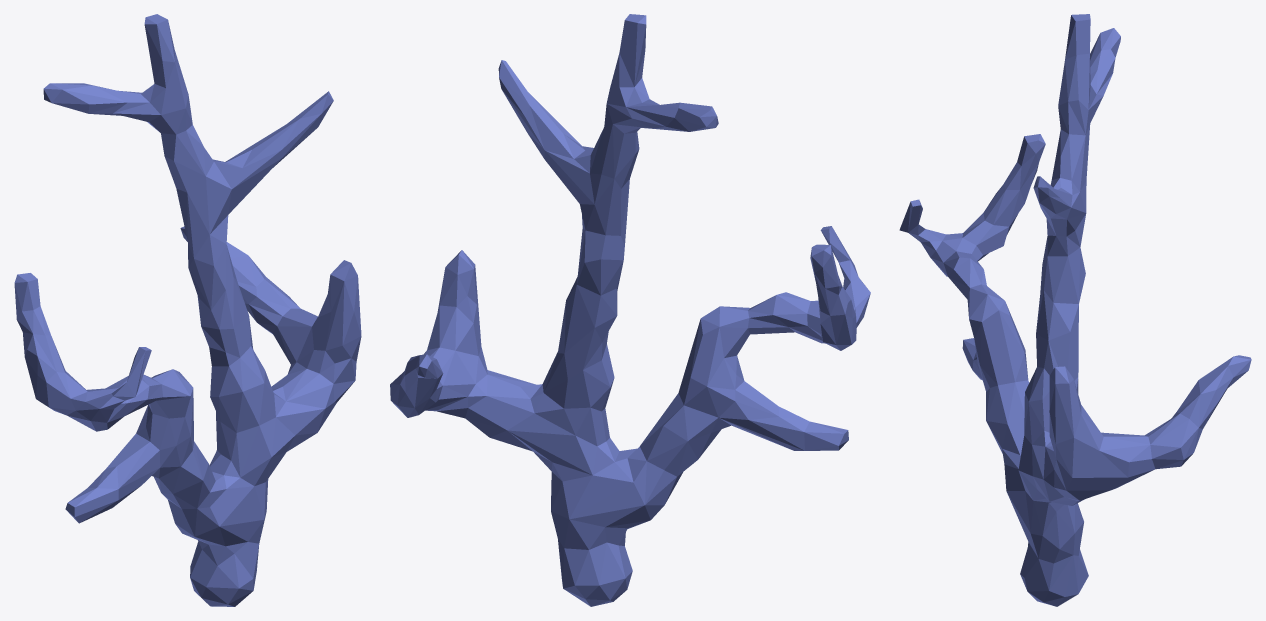
File: Coral2.glb
3 views of the same model, side by side, from view 1: azimuth 30°, elevation 25°; view 2: azimuth 150°, elevation 25°; view 3: azimuth 270°, elevation 25° (orthographic). The views are drawn at different scales.
Visible parts, largest first — view 1: Coral.002; view 2: Coral.002; view 3: Coral.002.
Boxes of the visible parts, box(x1,y1,x2,y2) form: Coral.002: box(14, 14, 361, 606); Coral.002: box(390, 14, 870, 606); Coral.002: box(899, 14, 1251, 606).
Bounding box in the file's own units: 34.95 × 53.92 × 30.6.
